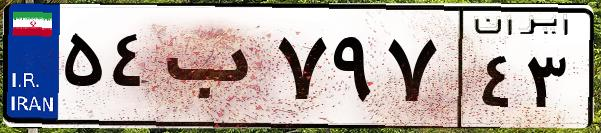3: (525, 38, 570, 115)
4: (475, 38, 525, 113), (110, 28, 158, 98)
5: (57, 26, 110, 100)
7: (270, 28, 330, 110), (385, 28, 445, 110)
9: (330, 28, 385, 110)
ب: (158, 20, 270, 120)
